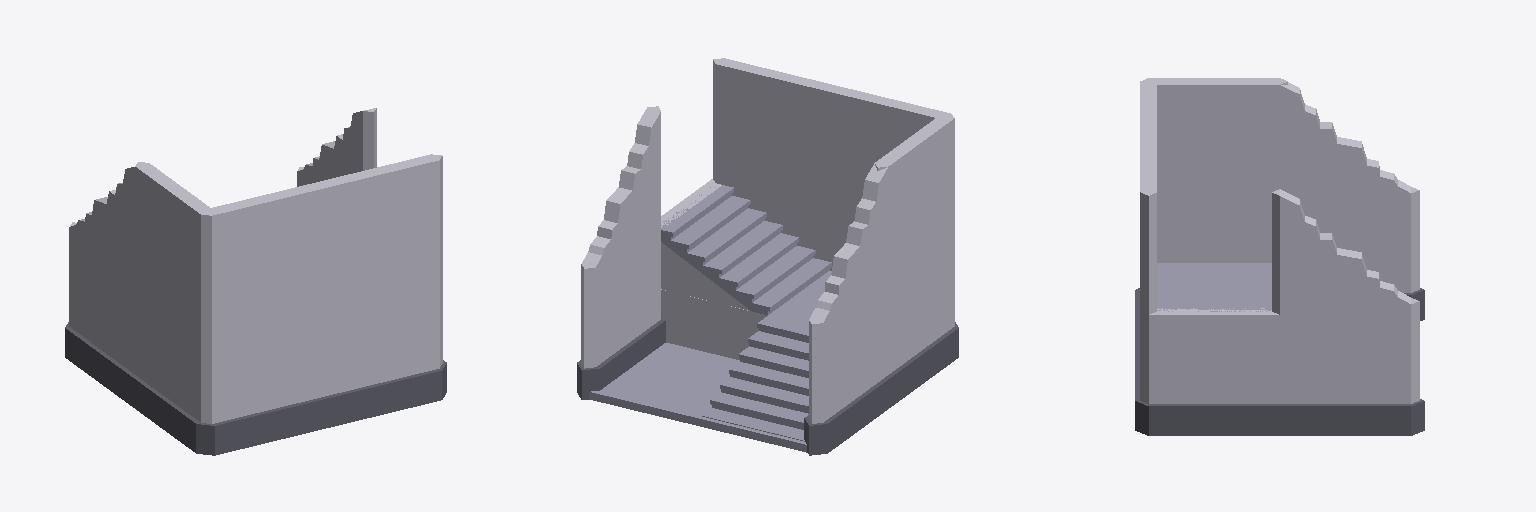
Rendered from corner_stair_02.obj.
3 renders of one model, left to right at view 1: azimuth 30°, elevation 25°; view 2: azimuth 150°, elevation 25°; view 3: azimuth 270°, elevation 25°, orthographic.
Parts seen in each view (by area): view 1: wall_corner_8, corner_01_1, wall_straight_9, corner_01_2, wall_01_4, wall_ruined_10, wall_ruined_6; view 2: wall_corner_8, wall_straight_9, stairs_07_7, wall_01_4, wall_01_3, corner_01_1, stairs_07_5, floor_01_0, wall_ruined_6, wall_ruined_10, raised_floor_01_6, corner_01_2 (+1 smaller); view 3: corner_01_2, wall_01_3, wall_corner_8, wall_ruined_6, wall_ruined_10, corner_01_1, wall_01_4, block_default_11, wall_straight_9, stairs_07_7.
Part boxes in pixels (x1,y1,x2,y2): wall_corner_8: (135, 162, 326, 334); corner_01_1: (131, 286, 327, 455); wall_straight_9: (315, 154, 442, 306); corner_01_2: (322, 275, 446, 427); wall_01_4: (65, 237, 134, 405); wall_ruined_10: (69, 163, 148, 284); wall_ruined_6: (297, 108, 376, 185); wall_corner_8: (829, 86, 954, 284); wall_straight_9: (713, 58, 840, 210); stairs_07_7: (661, 185, 831, 314); wall_01_4: (804, 286, 892, 455); wall_01_3: (577, 231, 665, 399); corner_01_1: (830, 211, 958, 405); stairs_07_5: (701, 316, 808, 441); floor_01_0: (589, 343, 806, 452); wall_ruined_6: (581, 106, 660, 278); wall_ruined_10: (809, 162, 888, 334); raised_floor_01_6: (661, 289, 767, 359); corner_01_2: (661, 179, 829, 261); corner_01_2: (1135, 308, 1281, 435); wall_01_3: (1275, 312, 1424, 435); wall_corner_8: (1140, 78, 1287, 203); wall_ruined_6: (1272, 189, 1419, 314); wall_ruined_10: (1277, 79, 1419, 203); corner_01_1: (1135, 204, 1271, 346); wall_01_4: (1301, 201, 1424, 320); block_default_11: (1157, 263, 1271, 301); wall_straight_9: (1140, 134, 1156, 314); stairs_07_7: (1157, 302, 1271, 311).
Bounding box in the file's own units: 2.21 × 2 × 2.21.